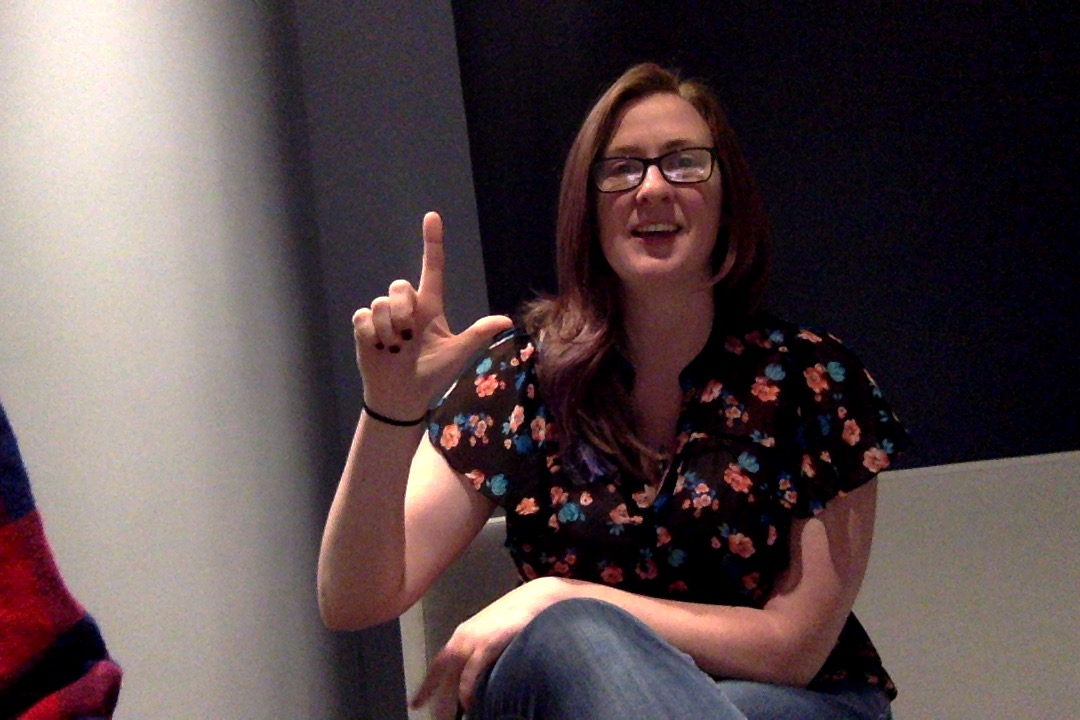l: (340, 202, 510, 435)
